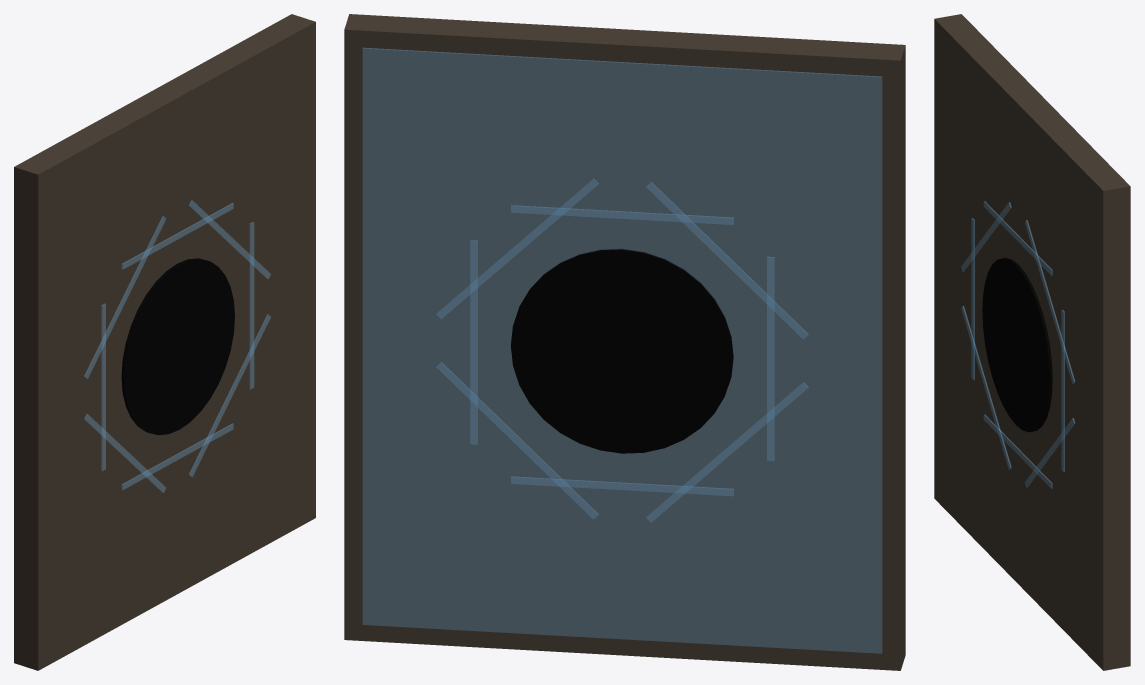
The model's file is broken_window.glb.
The picture shows the model from 3 angles, left to right: view 1: azimuth 30°, elevation 25°; view 2: azimuth 150°, elevation 25°; view 3: azimuth 270°, elevation 25°; orthographic projection. The views are drawn at different scales.
Size of the model in its own units: 1.42 by 1.8 by 0.6664.
